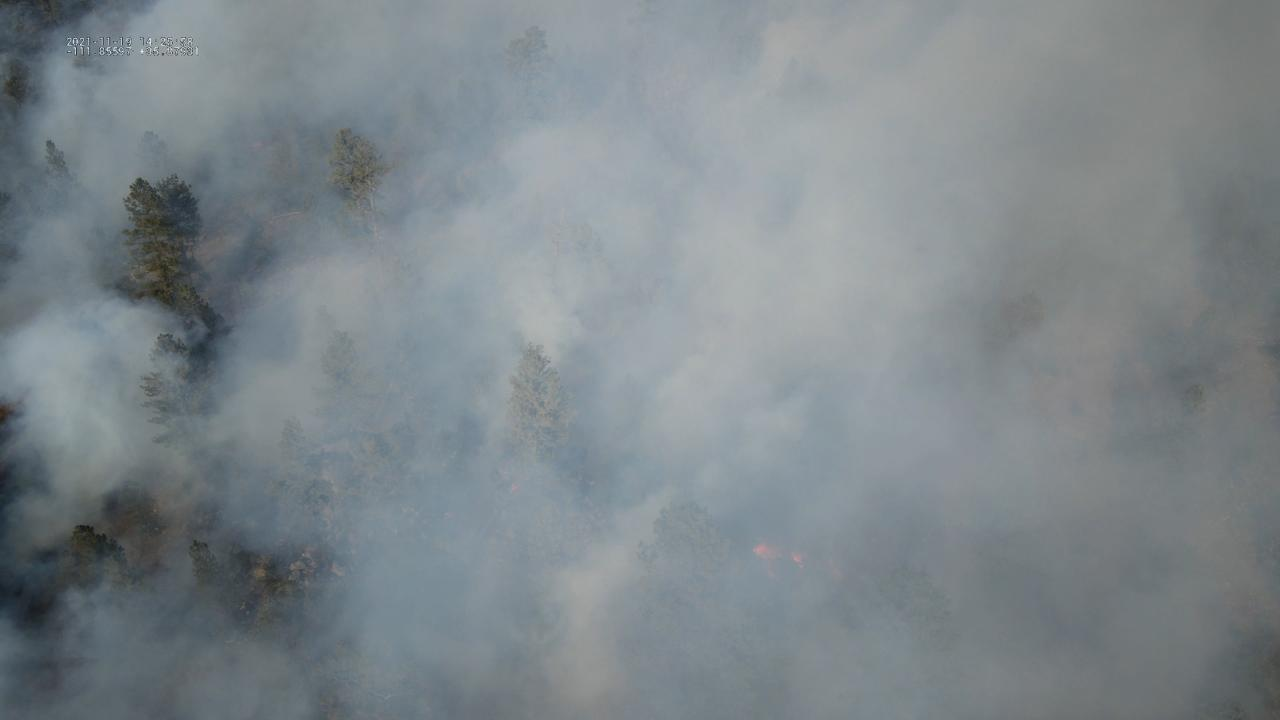fire: (748, 543, 771, 559), (792, 554, 807, 570)
smoke: (0, 0, 1280, 720)
